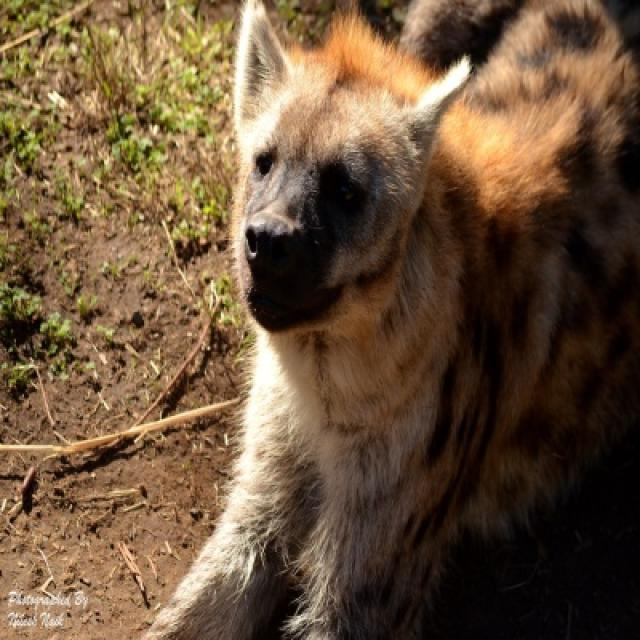hyena: (136, 0, 638, 638)
